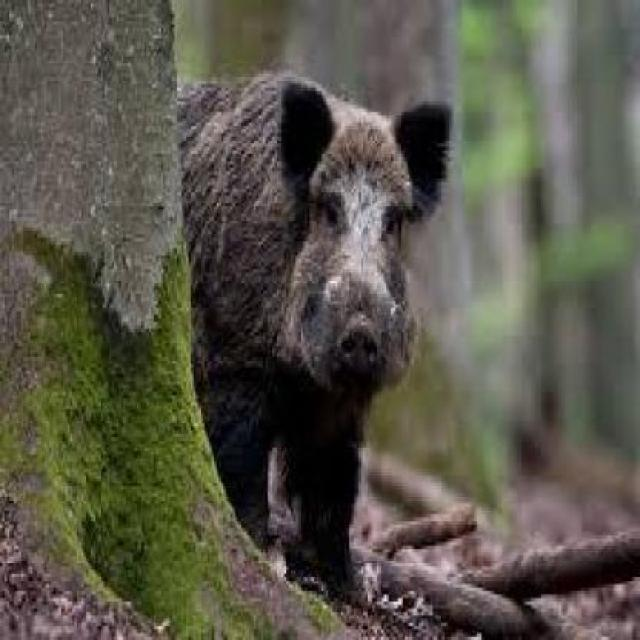wildboar: (79, 66, 458, 591)
